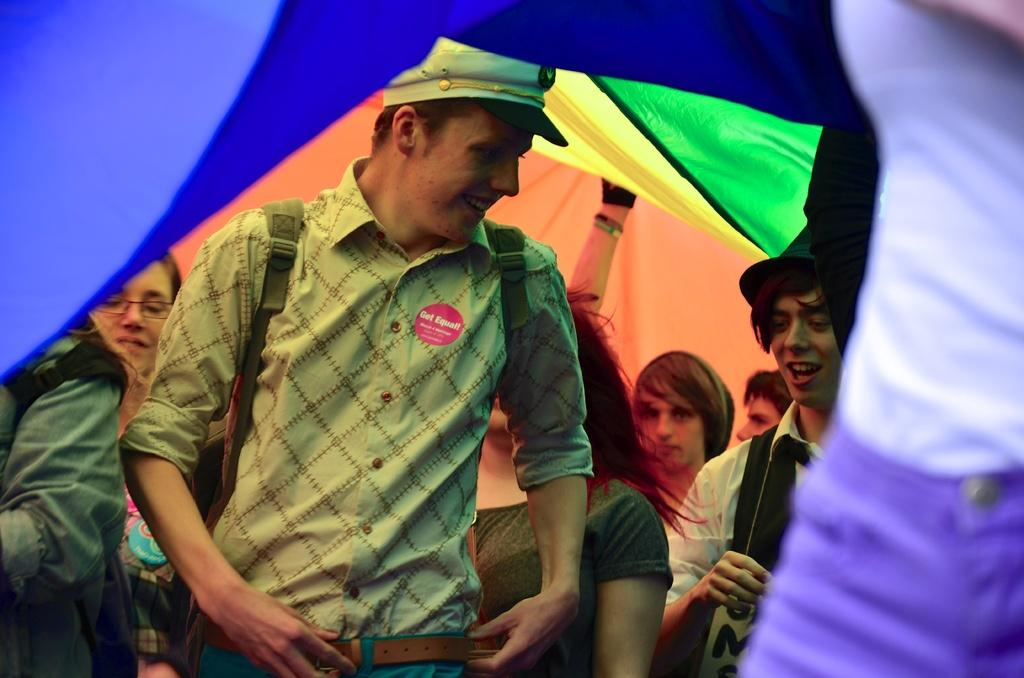Hat: (382, 34, 567, 148), (740, 231, 816, 311)
